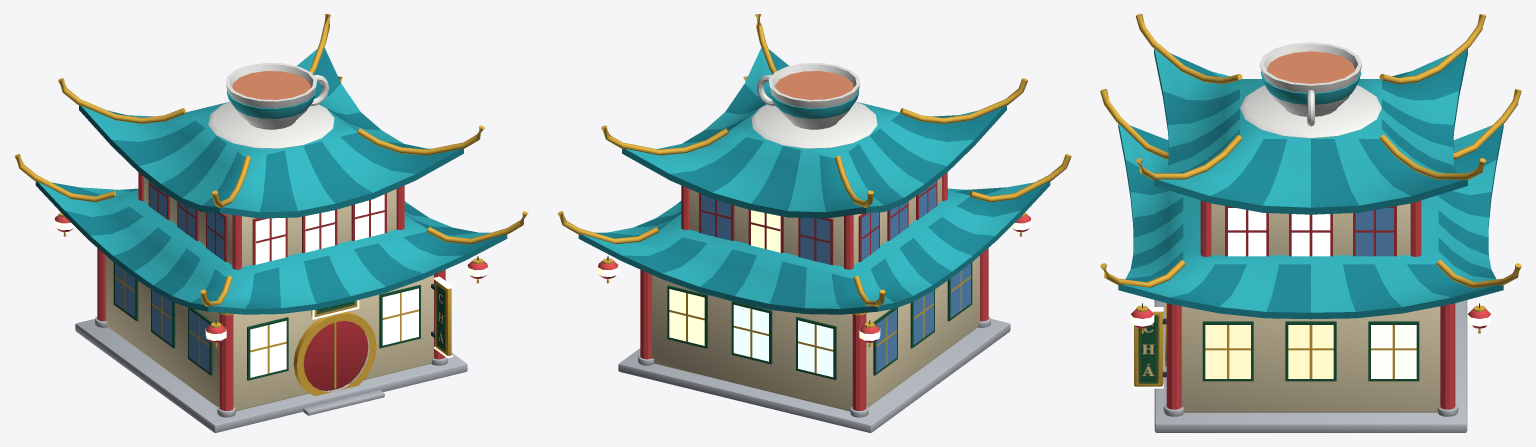
File: casa_de_cha.glb
3 renders of one model, left to right at view 1: azimuth 30°, elevation 25°; view 2: azimuth 150°, elevation 25°; view 3: azimuth 270°, elevation 25°, orthographic. The views are drawn at different scales.
Parts seen in each view (by area): view 1: casa_de_cha; view 2: casa_de_cha; view 3: casa_de_cha.
Part boxes in pixels (x1,y1,x2,y2): casa_de_cha: (14,14,528,432); casa_de_cha: (557,14,1071,432); casa_de_cha: (1100,14,1521,432).
Size of the model in its own units: 11.86 by 9.35 by 11.88.
Materials: 8 (3 with a texture image).
